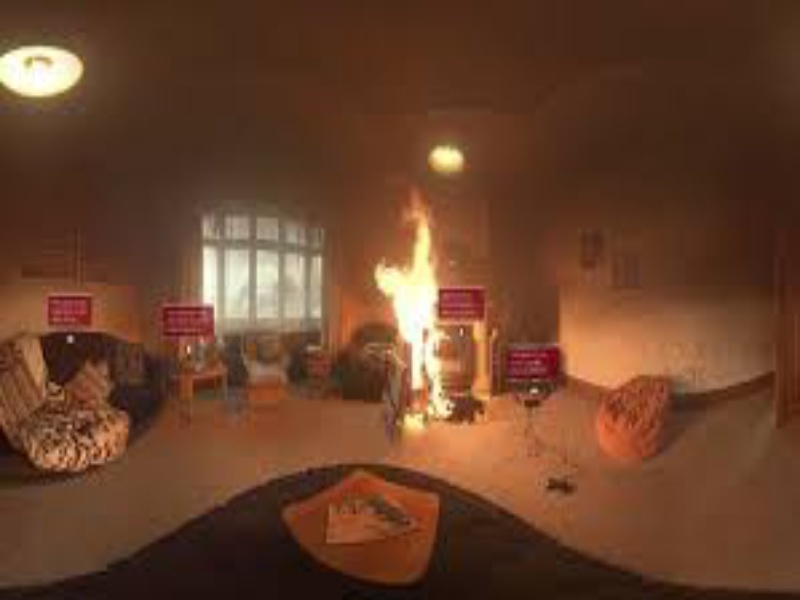fire: (348, 180, 449, 405)
